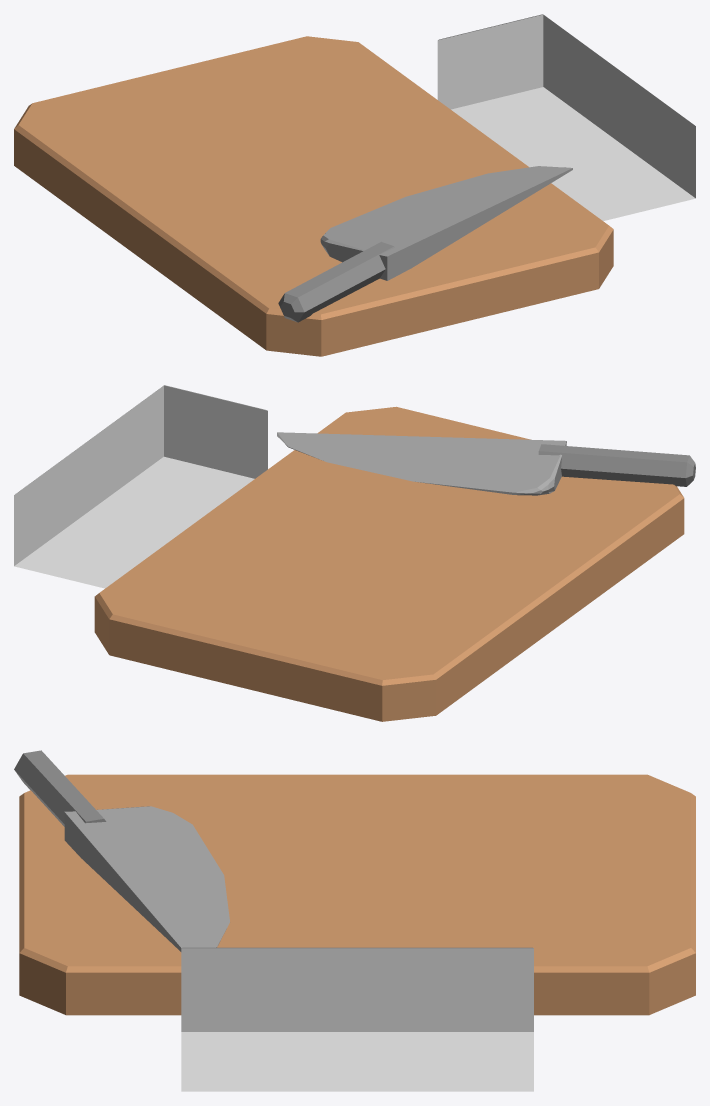
File: chopping_board.glb
The picture shows the model from 3 angles, top to bottom: view 1: azimuth 30°, elevation 25°; view 2: azimuth 150°, elevation 25°; view 3: azimuth 270°, elevation 25°; orthographic projection. The views are drawn at different scales.
Visible parts, largest first — view 1: board, Cube, knife_blade, knife_handle; view 2: board, Cube, knife_blade, knife_handle; view 3: board, Cube, knife_blade, knife_handle.
Boxes of the visible parts, x1=… form: board: x1=14, y1=36, x2=613, y2=356; Cube: x1=437, y1=14, x2=695, y2=221; knife_blade: x1=320, y1=166, x2=572, y2=280; knife_handle: x1=278, y1=241, x2=394, y2=322; board: x1=94, y1=406, x2=684, y2=721; Cube: x1=14, y1=385, x2=267, y2=588; knife_blade: x1=277, y1=432, x2=566, y2=495; knife_handle: x1=538, y1=444, x2=695, y2=486; board: x1=19, y1=774, x2=695, y2=1015; Cube: x1=181, y1=947, x2=533, y2=1091; knife_blade: x1=64, y1=806, x2=229, y2=951; knife_handle: x1=14, y1=750, x2=106, y2=826.
Bounding box in the file's own units: 1.74 × 0.2548 × 1.85.
